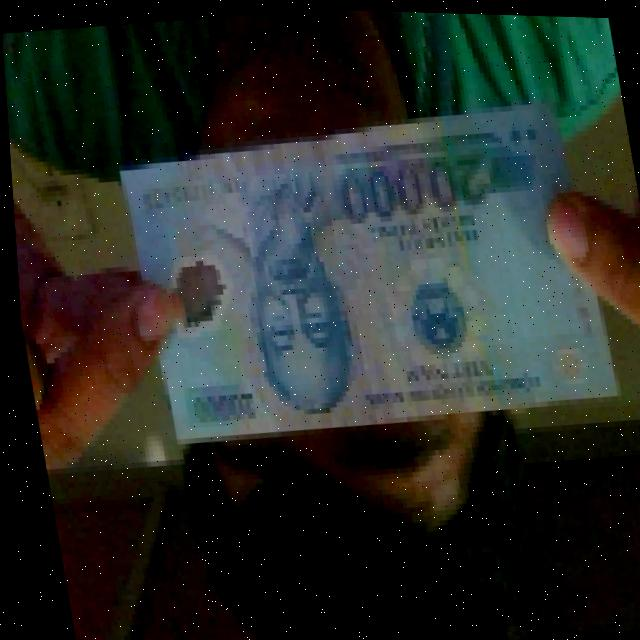20 000 VND: (104, 80, 624, 459)
